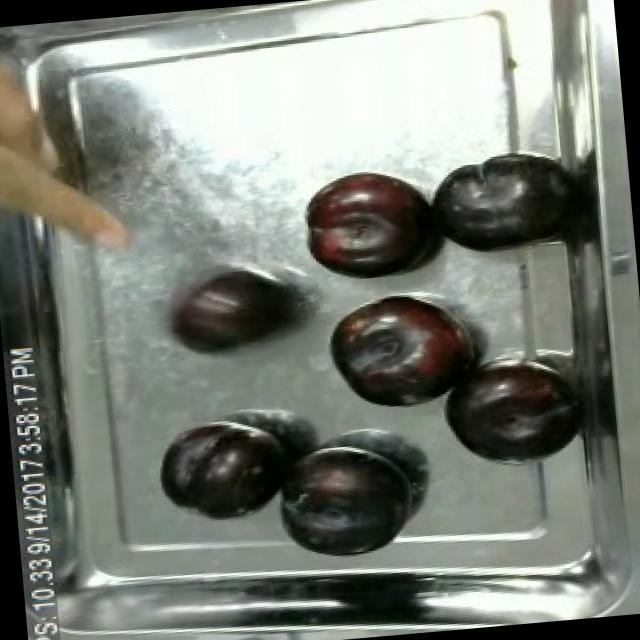Fruit: (316, 282, 487, 416), (266, 436, 422, 566), (292, 162, 444, 290), (420, 140, 578, 262), (150, 412, 303, 528), (434, 351, 572, 474), (157, 262, 296, 360)
